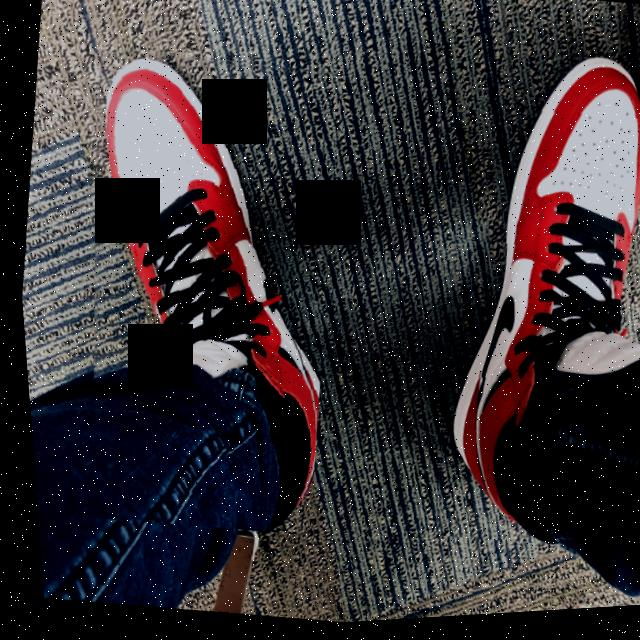shoe: (32, 37, 367, 550), (394, 33, 640, 568)
